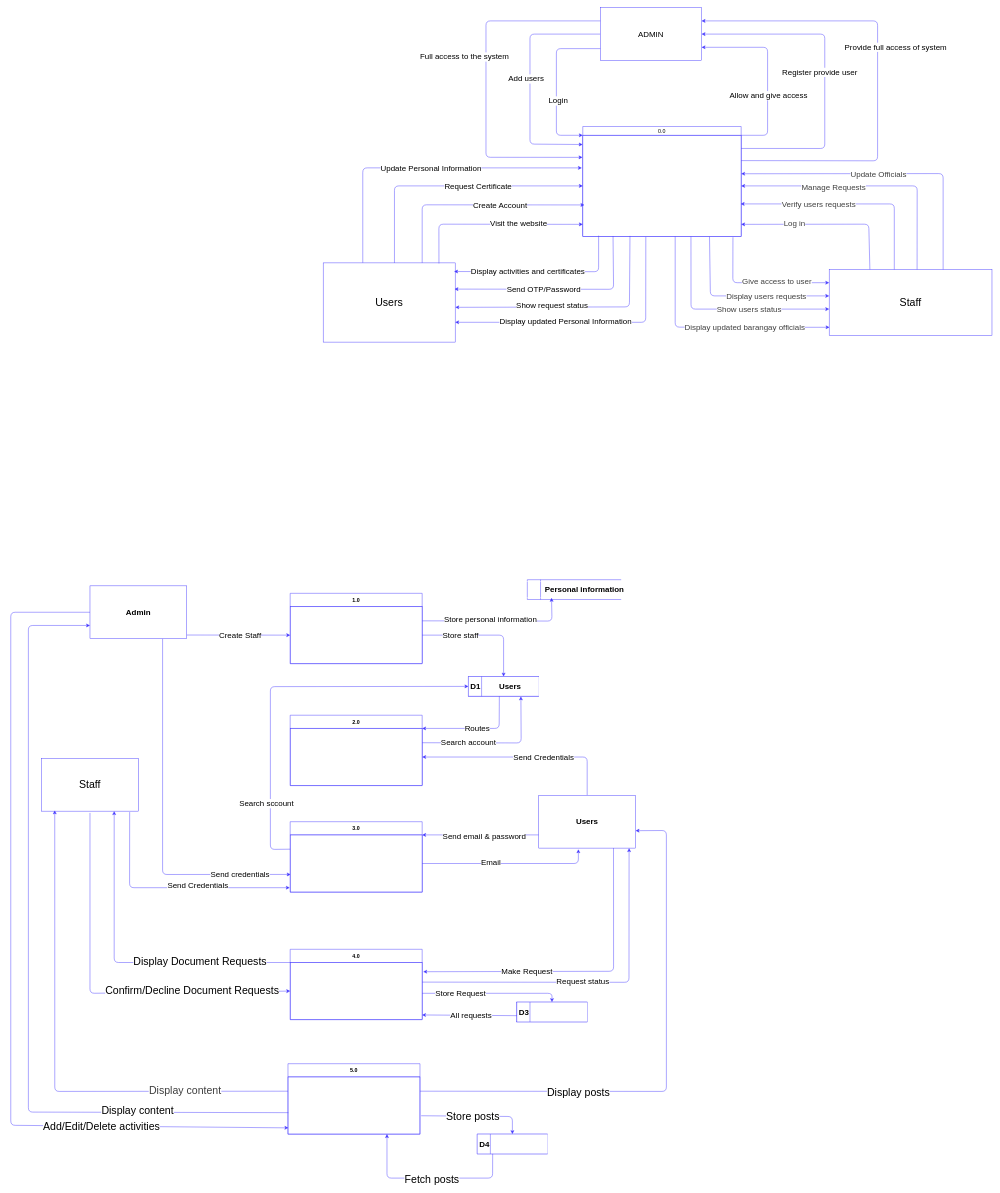
This 1000x1193 diagram has some shape labels left out. The centre of each missing label's shape, as x and y in pixels:
Bais City Information Hub: An Integrated Local Services: point (661, 185)
Content Utilization: point (354, 1105)
D2: point (574, 589)
Document Request Process: point (356, 991)
Login Process: point (356, 863)
Posts: point (517, 1143)
Registration Process: point (356, 635)
Requests: point (558, 1011)
Verification Process: point (356, 757)
